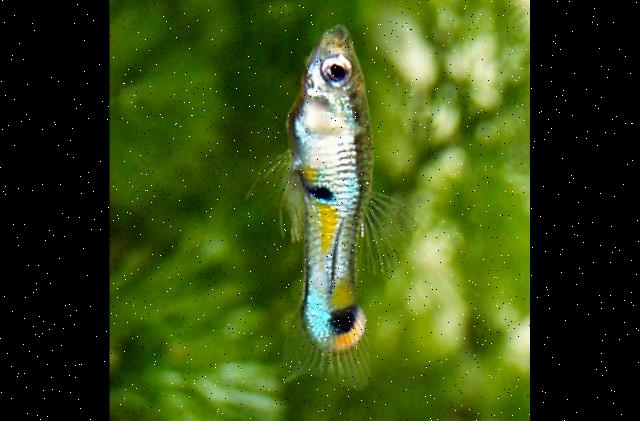Mulut: (304, 8, 367, 70)
Sirip Anal: (272, 184, 322, 257)
Sirip Dada: (285, 85, 366, 149)
Sirip Ekor: (266, 283, 371, 400)
Sirip Perut: (232, 146, 306, 219)
Sirip Punggung: (342, 182, 427, 289)
